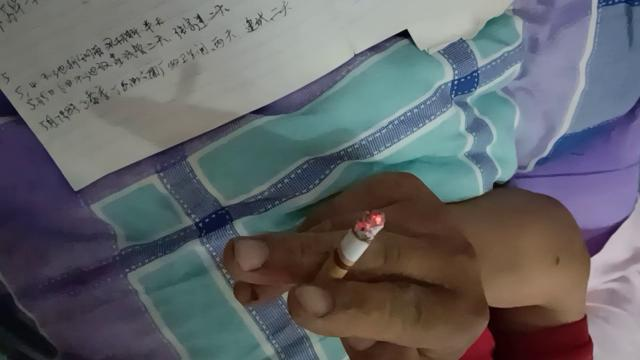Smoking: (301, 210, 387, 308)
